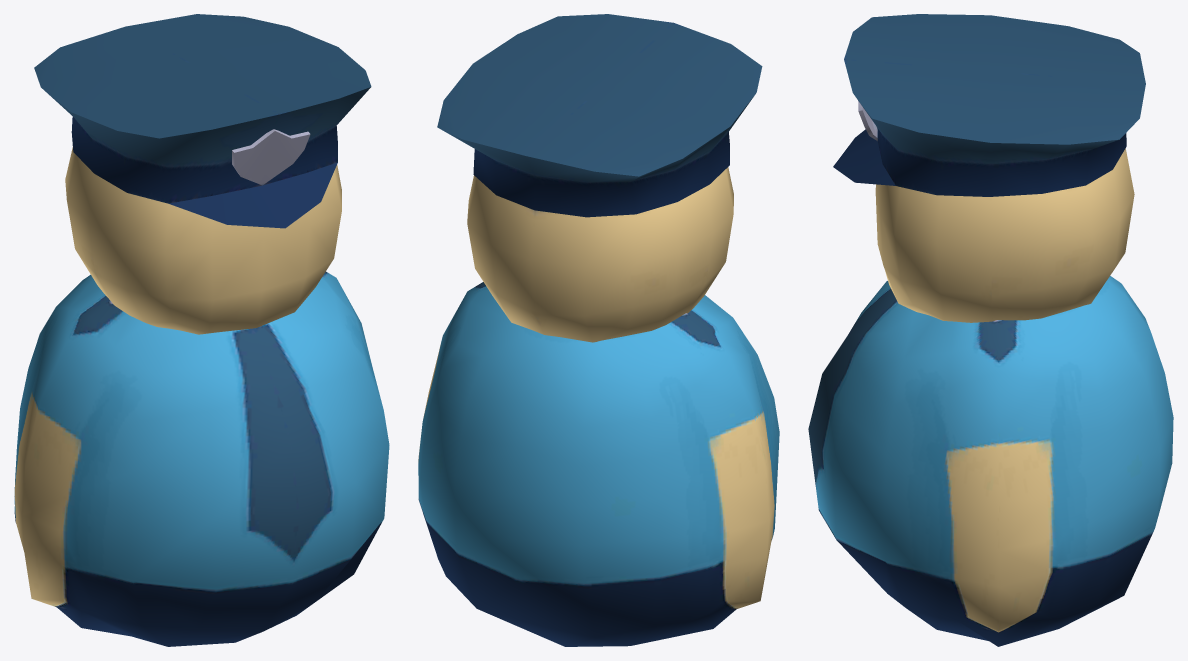
Rendered from police.glb.
3 views of the same model, side by side, from view 1: azimuth 30°, elevation 25°; view 2: azimuth 150°, elevation 25°; view 3: azimuth 270°, elevation 25° (orthographic). The views are drawn at different scales.
Visible parts, largest first — view 1: M_SA_Police_01; view 2: M_SA_Police_01; view 3: M_SA_Police_01.
Part boxes in pixels (x1,y1,x2,y2): M_SA_Police_01: [14, 14, 389, 646]; M_SA_Police_01: [418, 14, 779, 646]; M_SA_Police_01: [808, 14, 1173, 646].
Size of the model in its own units: 3.1 by 4.77 by 2.81.
Materials: 1 (1 with a texture image).
